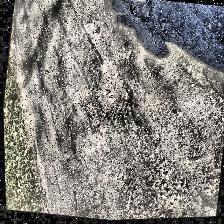pothole: (88, 58, 138, 136)
